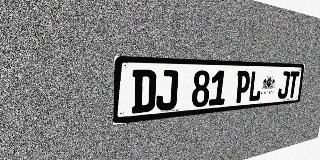1: (209, 70, 227, 106)
8: (191, 70, 211, 108)
D: (131, 70, 157, 114)
J: (155, 70, 179, 111), (277, 71, 290, 99)
L: (248, 71, 263, 102)
P: (234, 71, 251, 103)
T: (287, 71, 300, 98)
